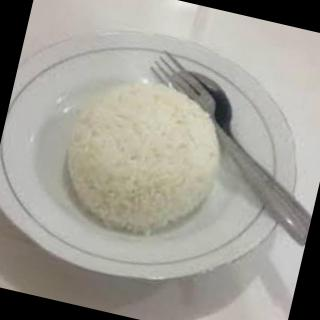Nasi: (51, 66, 235, 252)
